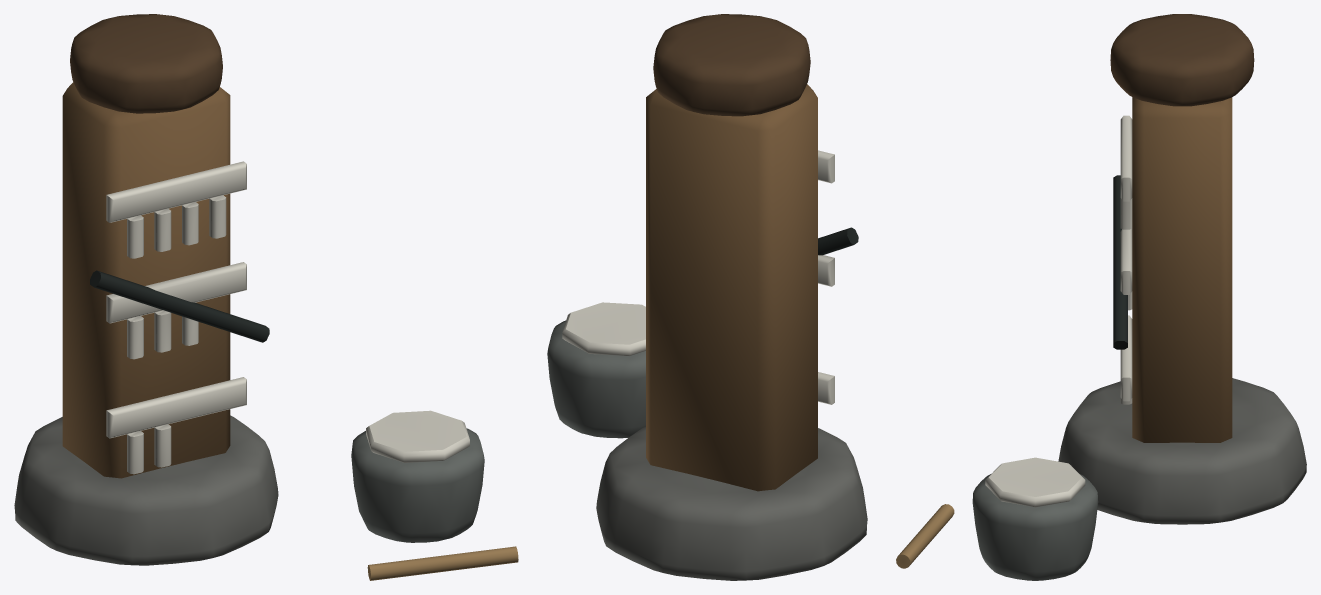
Rendered from milepost_a.glb.
3 renders of one model, left to right at view 1: azimuth 30°, elevation 25°; view 2: azimuth 150°, elevation 25°; view 3: azimuth 270°, elevation 25°, orthographic. The views are drawn at different scales.
Visible parts, largest first — view 1: Surface; view 2: Surface; view 3: Surface.
Part boxes in pixels (x1=…): Surface: x1=14, y1=14, x2=518, y2=580; Surface: x1=547, y1=14, x2=867, y2=580; Surface: x1=896, y1=14, x2=1306, y2=580.
Bounding box in the file's own units: 1.33 × 1.67 × 1.4.
